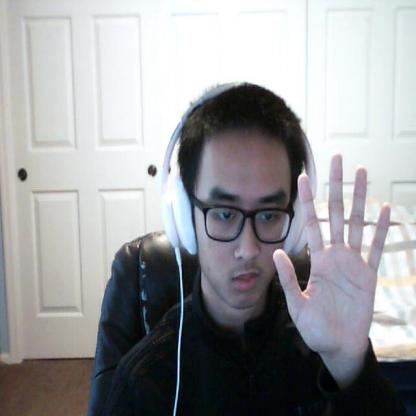palm: (271, 146, 396, 356)
